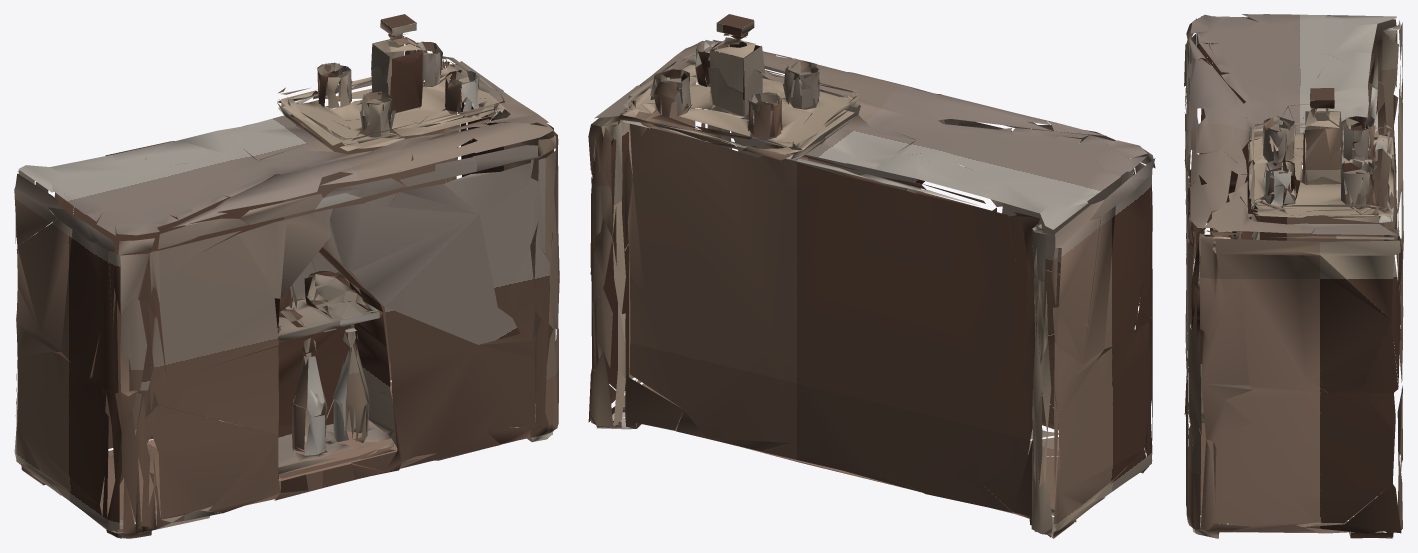
File: jetbar.glb
3 views of the same model, side by side, from view 1: azimuth 30°, elevation 25°; view 2: azimuth 150°, elevation 25°; view 3: azimuth 270°, elevation 25° (orthographic). The views are drawn at different scales.
Parts seen in each view (by area): view 1: LO.001; view 2: LO.001; view 3: LO.001.
Boxes of the visible parts, x1,y1,x2,y2 form: LO.001: (14, 14, 559, 538); LO.001: (588, 14, 1155, 538); LO.001: (1184, 14, 1403, 538).
Size of the model in its own units: 1.93 by 1.58 by 0.7952.
Materials: 1 (1 with a texture image).
